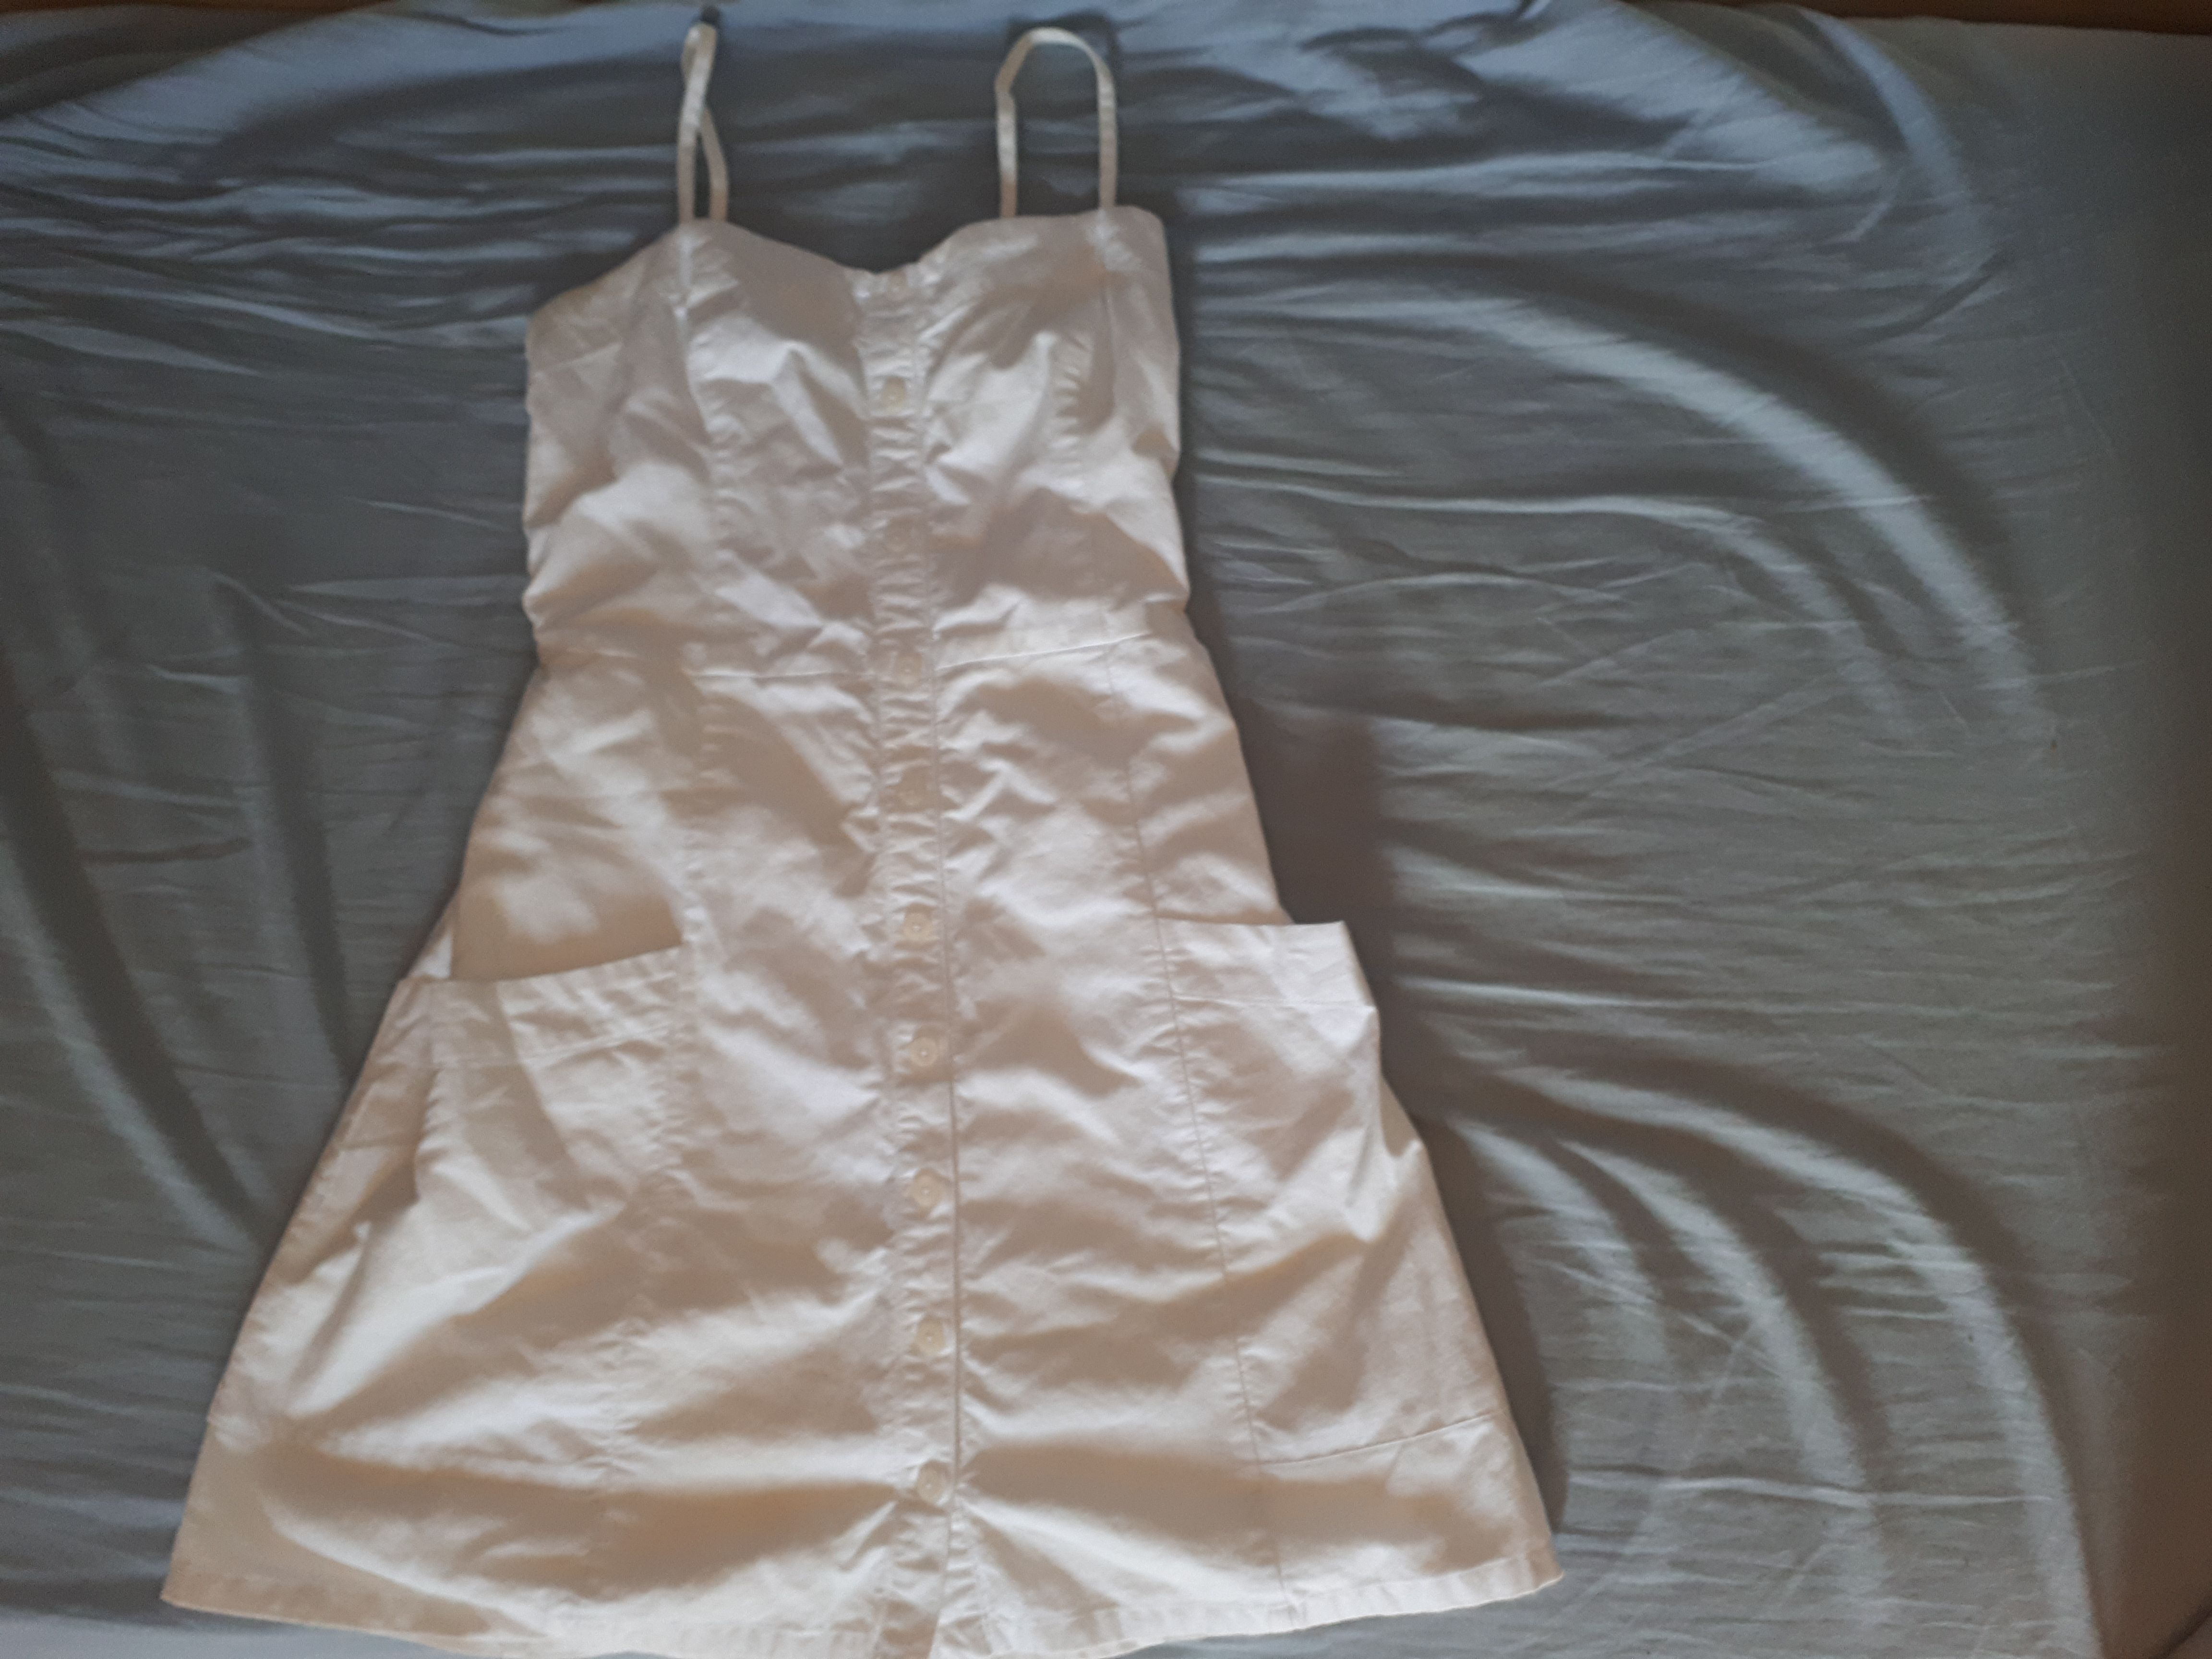clothes: (167, 23, 1568, 1643)
